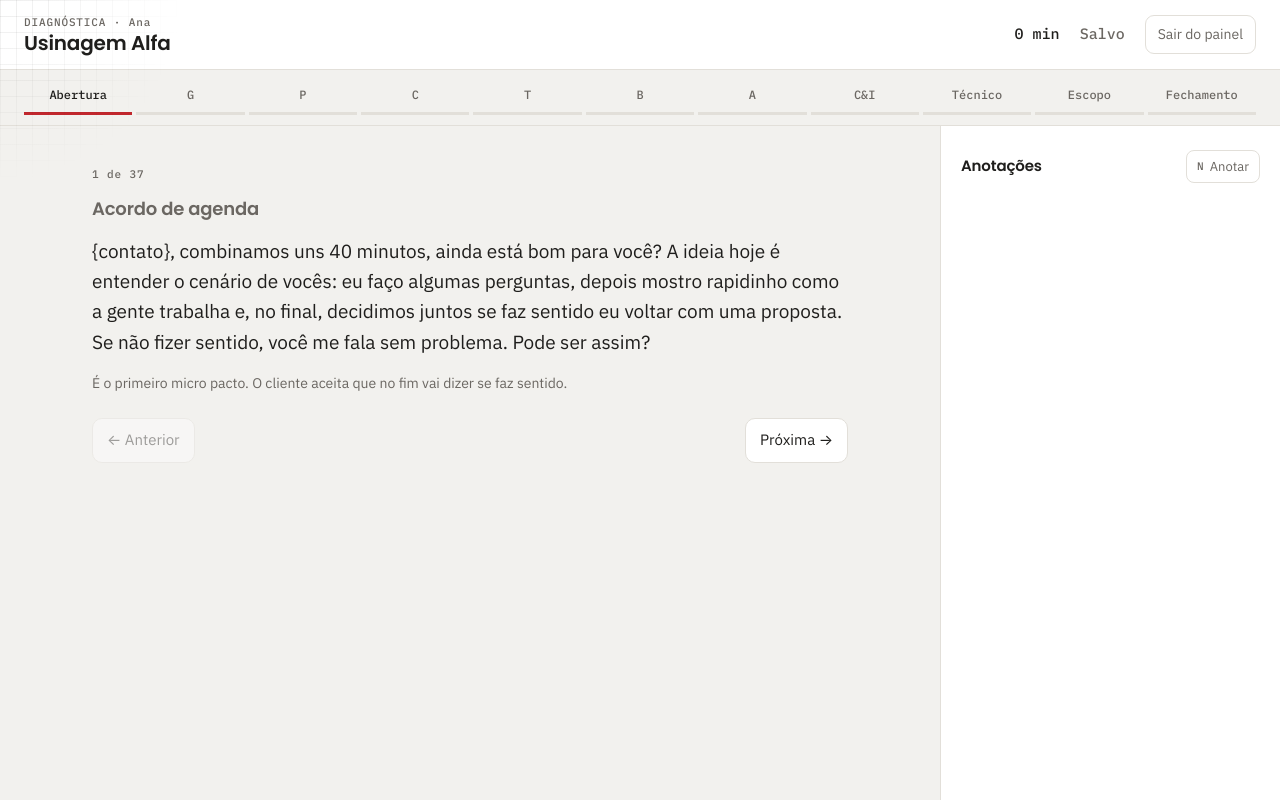
Test: anotação técnica aparece com o minuto
The image size is (1280, 800).
Type keys "n"
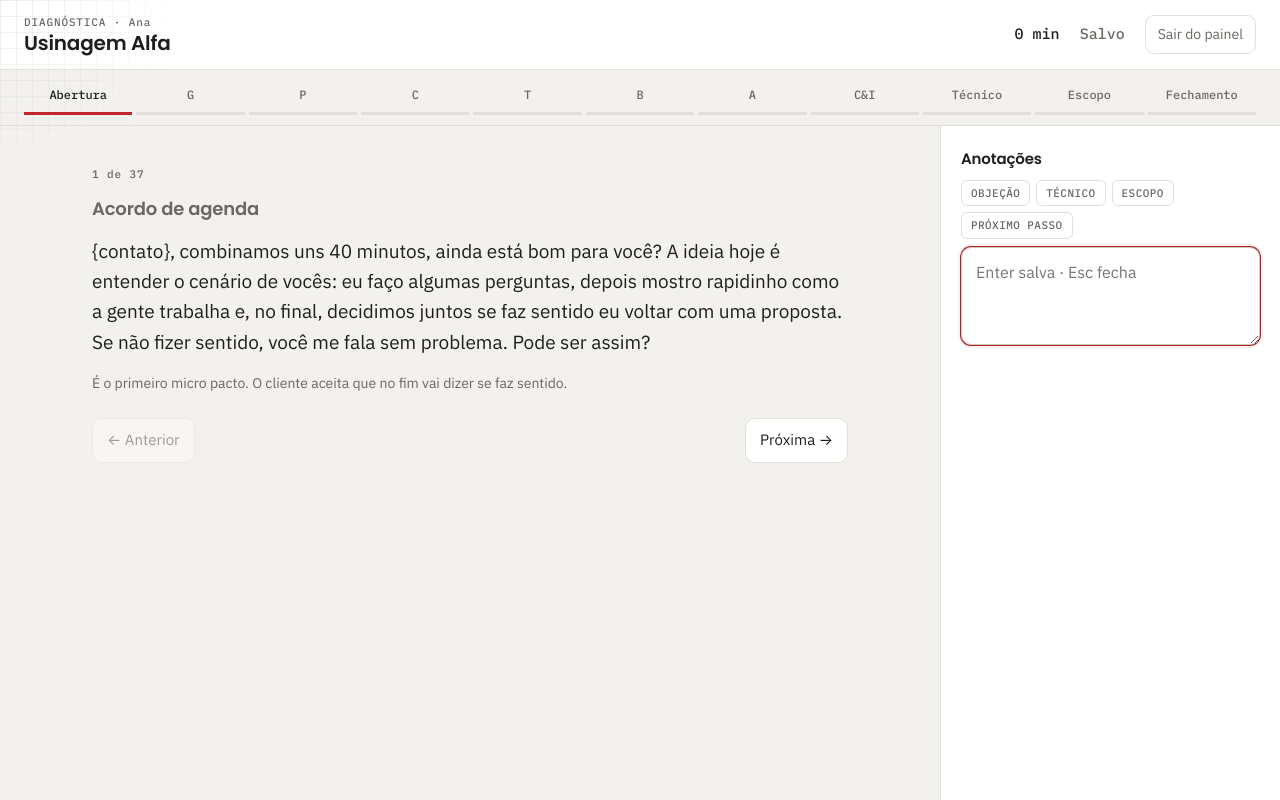
Click the button "Técnico" below "Anotações".
click(1071, 193)  # box [1036, 180, 1106, 206]
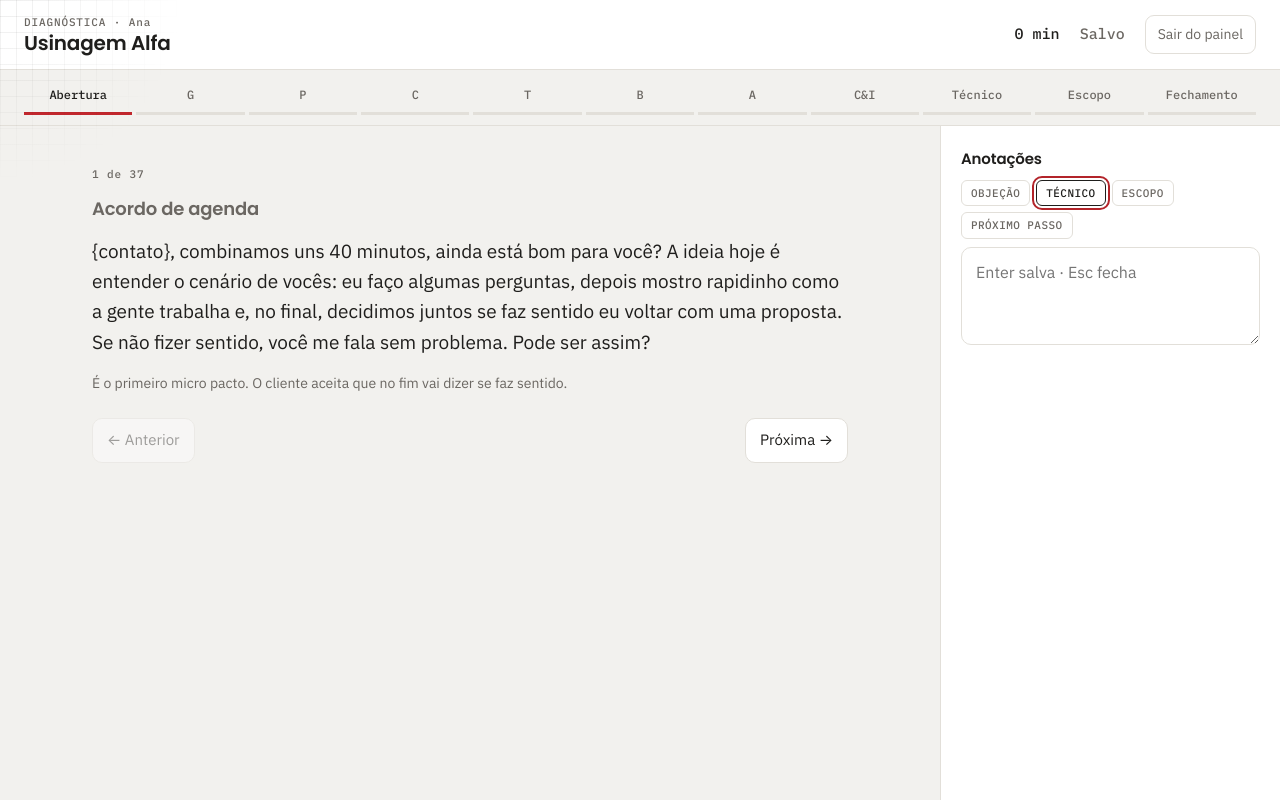
Type "Pé-direito de 9 m" into the text box named "Anotação".
click(1110, 296); type("Pé-direito de 9 m")  # box [961, 246, 1260, 344]
Then press Enter
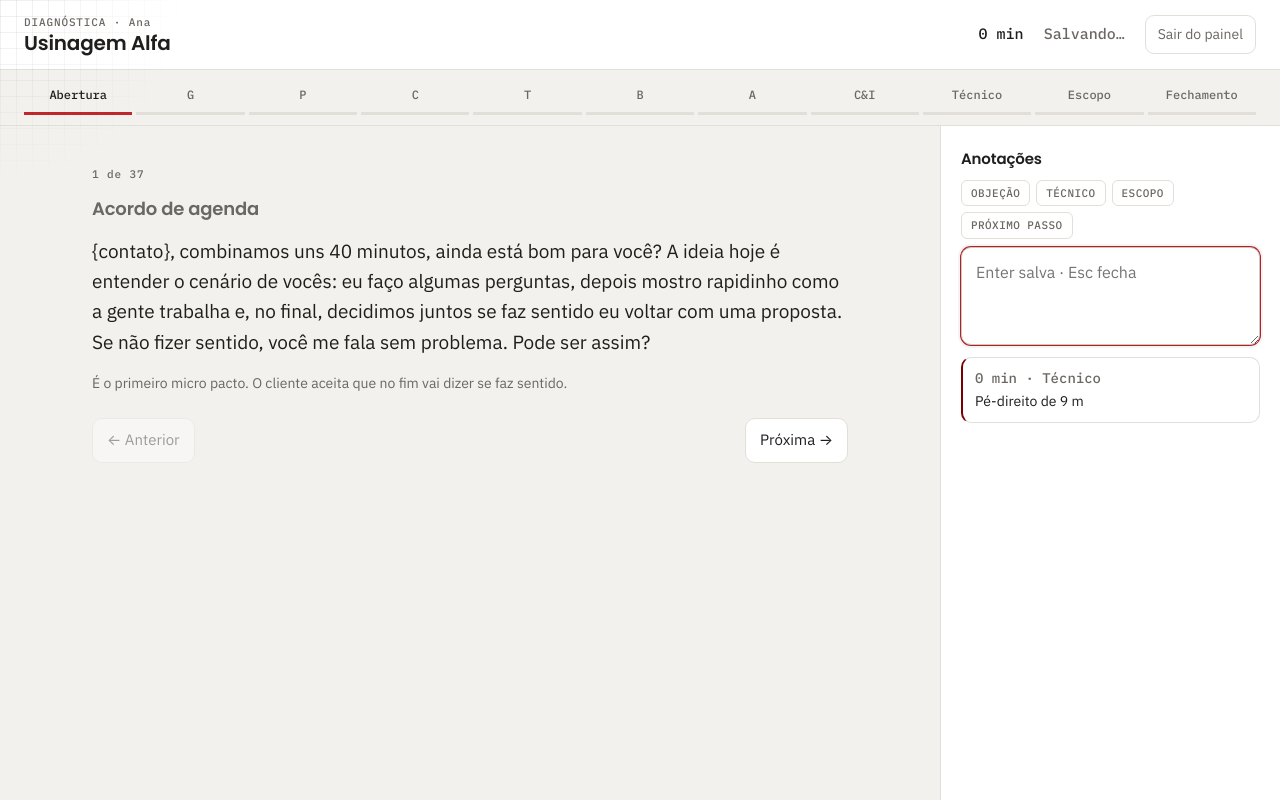
Expected: the list named "Anotações" shows "Técnico", [1017, 368, 1101, 386]
Expected: the list named "Anotações" shows "Pé-direito de 9 m", [975, 392, 1084, 410]
Expected: the list named "Anotações" reads "0 min · Técnico Pé-direito de 9 m", [961, 356, 1260, 422]
